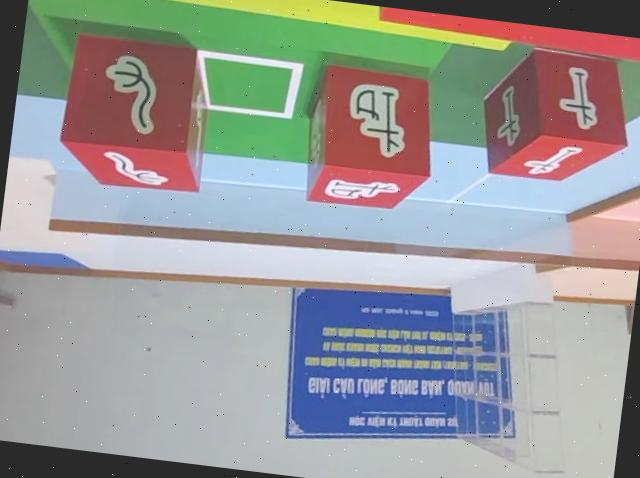R2 Real: (49, 15, 222, 202), (470, 37, 636, 193), (298, 62, 440, 215)
